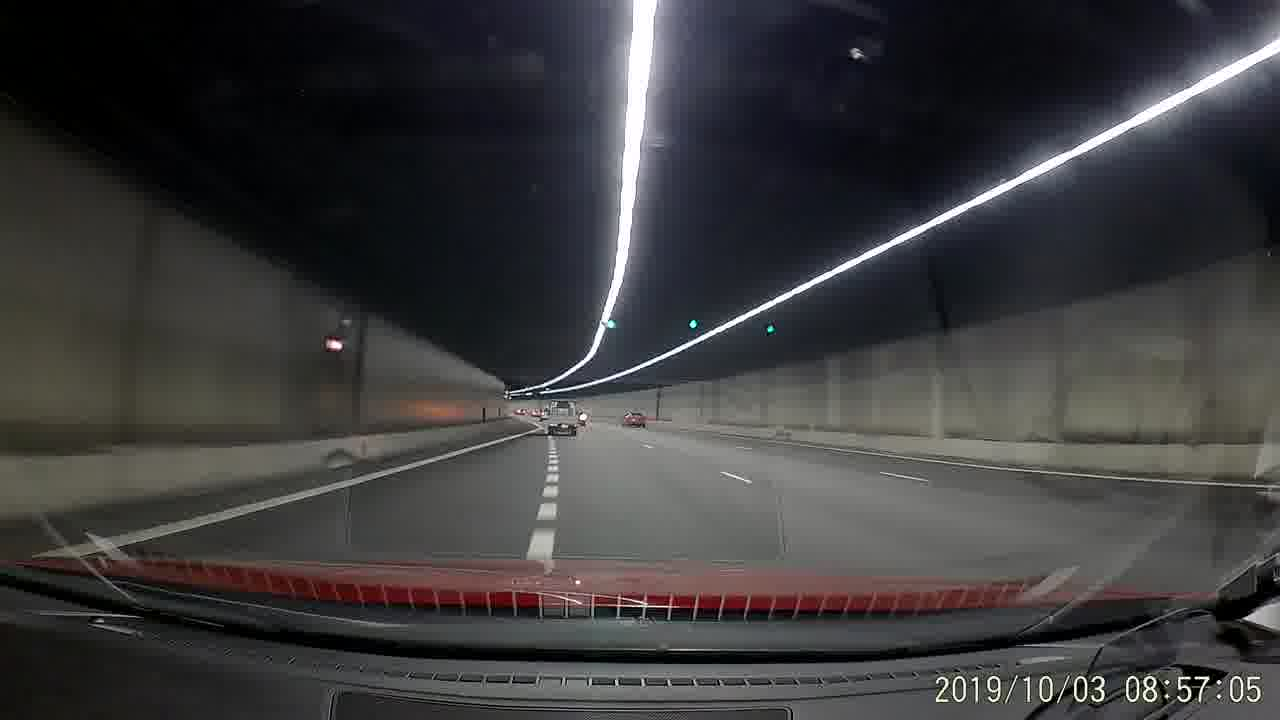car: (619, 411, 646, 428)
